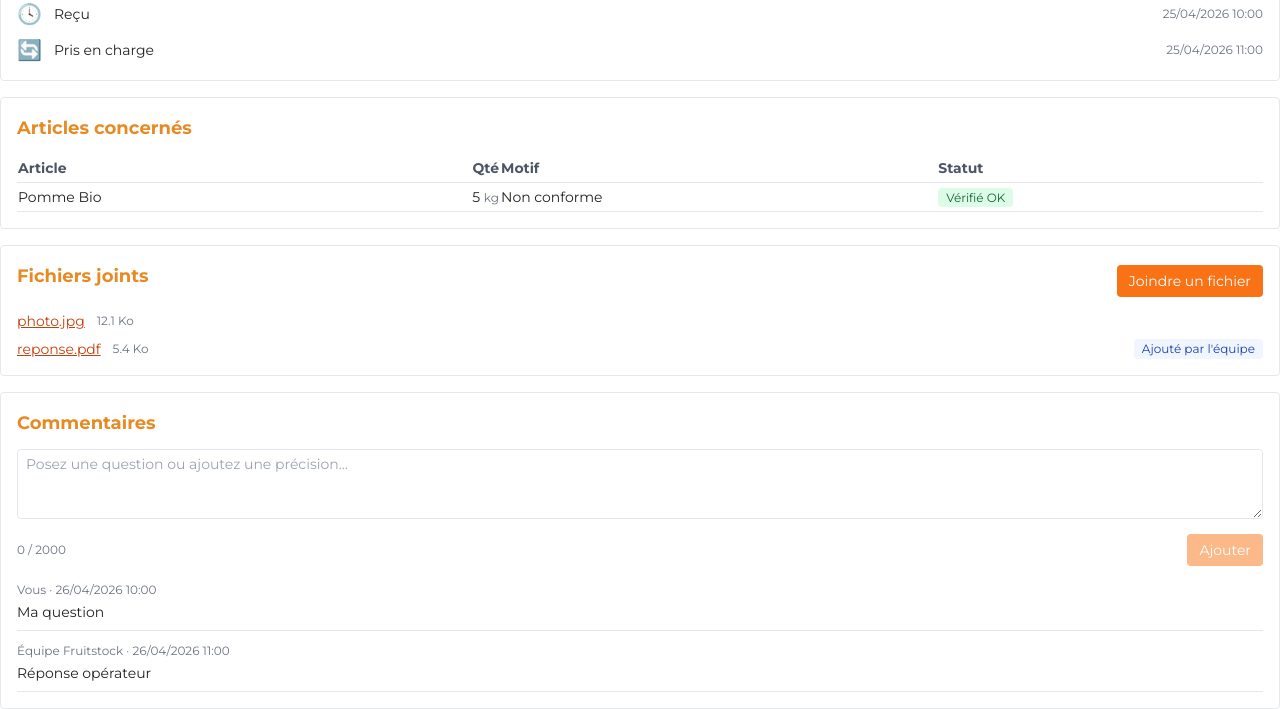
Test: MemberSavDetailView (Story 6.3) › AC#7 ajout optimistic — le commentaire apparaît avant la 201
(page scrolled)
Step 1. Type "En cours" into the text box with test id "comment-body-input" → (640, 484), box [17, 449, 1263, 519]
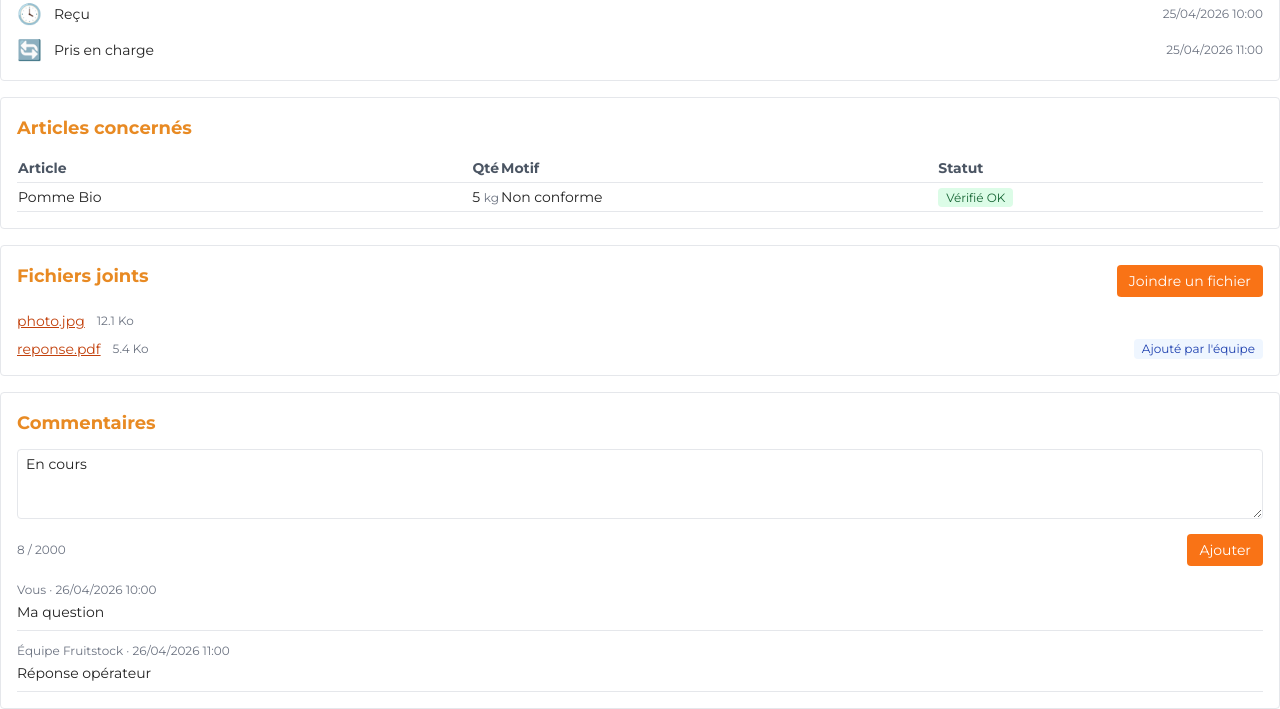
Step 2. Submit the form with test id "comment-form", box [17, 449, 1263, 566]
(page scrolled)
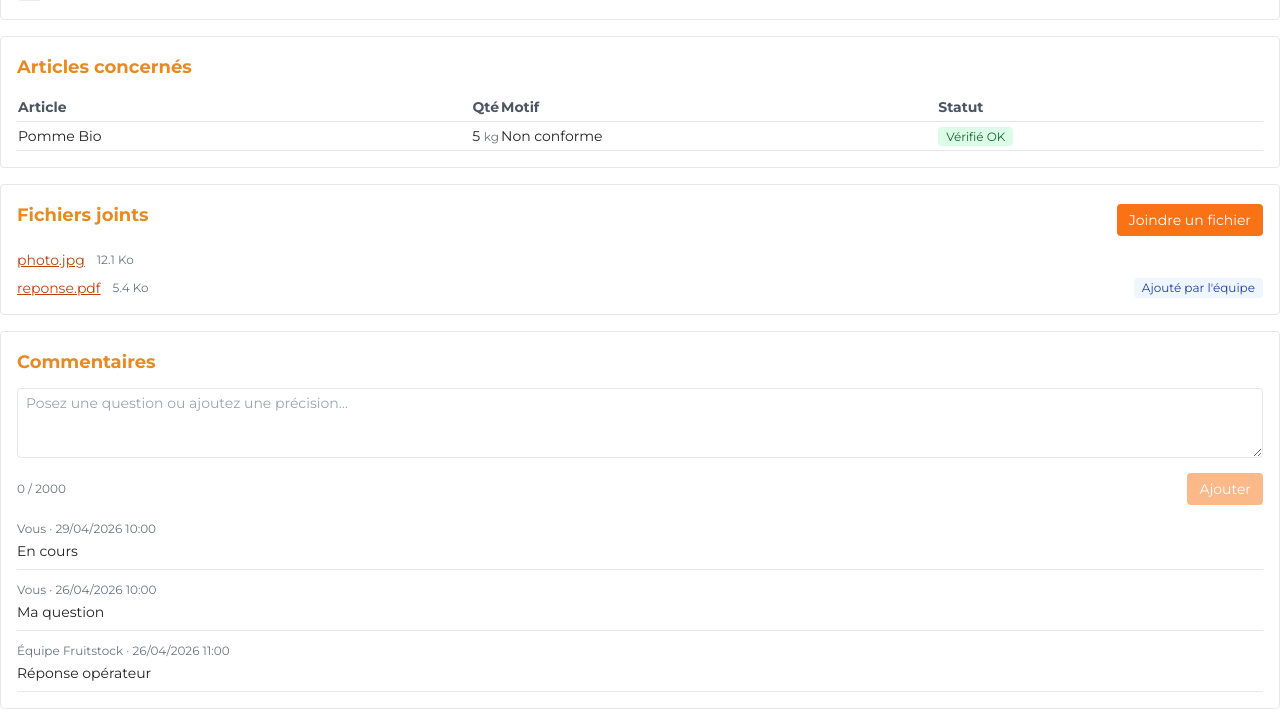
Expected: the element with test id "sav-comments-thread" shows "En cours", [17, 542, 78, 560]
